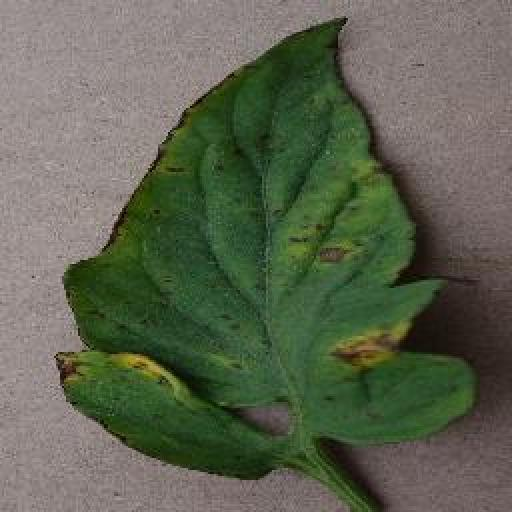Bacterial Spot: (50, 13, 478, 484)
